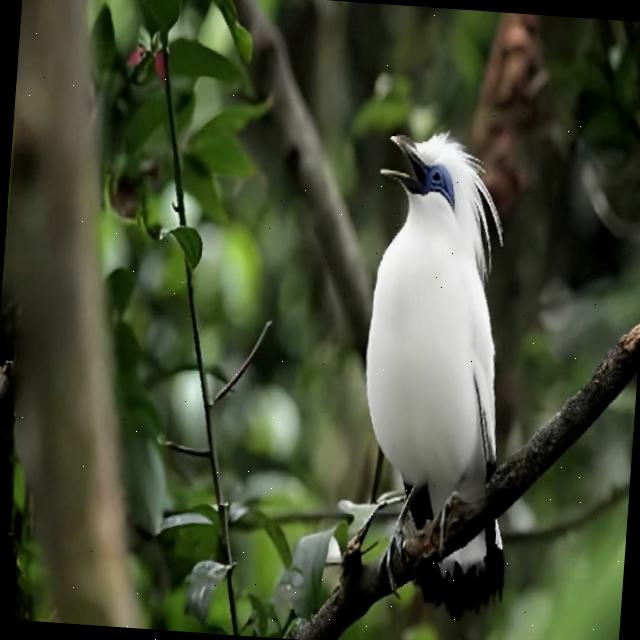Jalak Bali: (328, 101, 556, 630)
